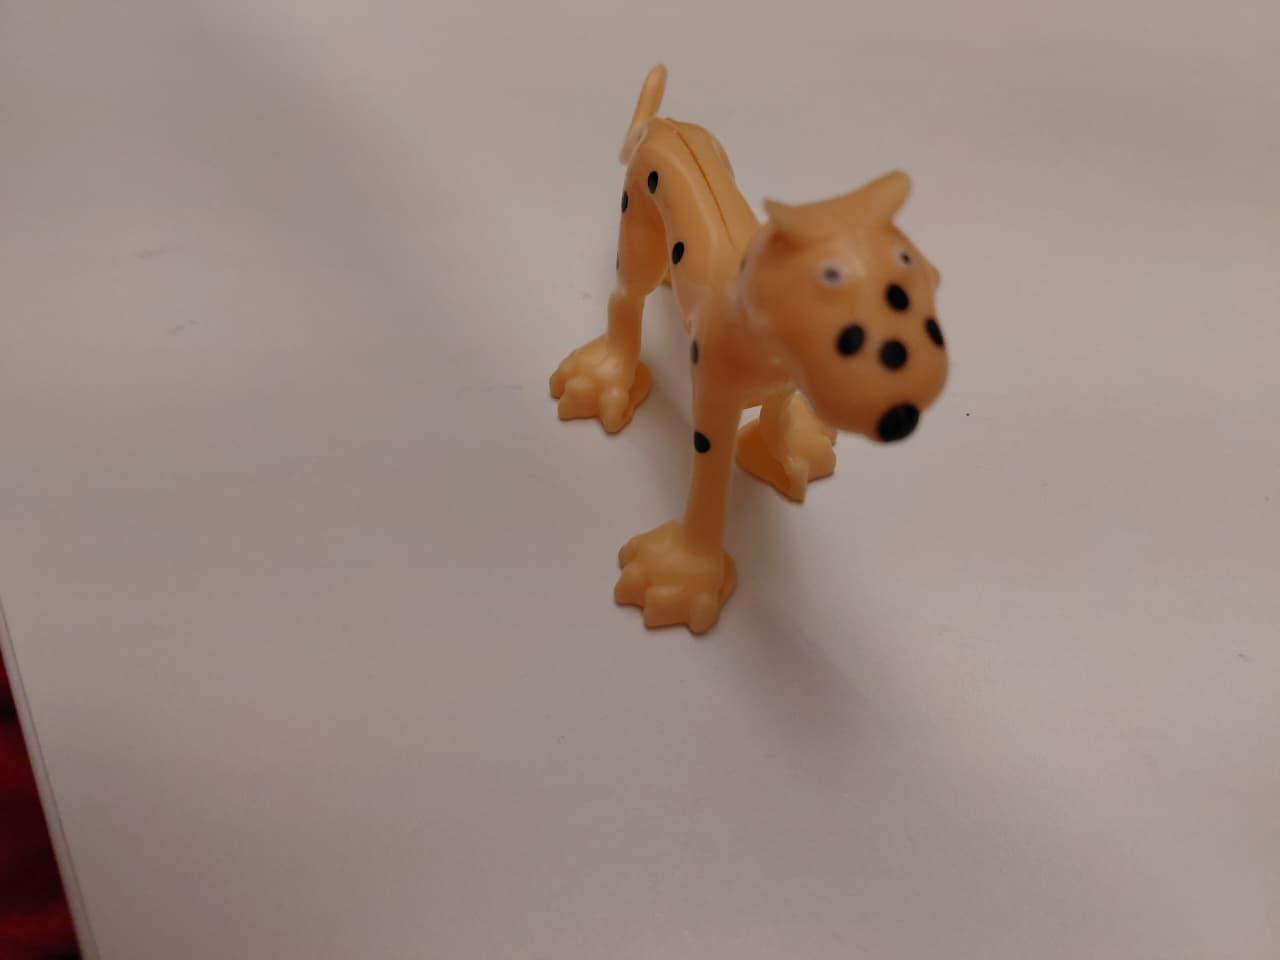cheetah: (500, 46, 973, 665)
